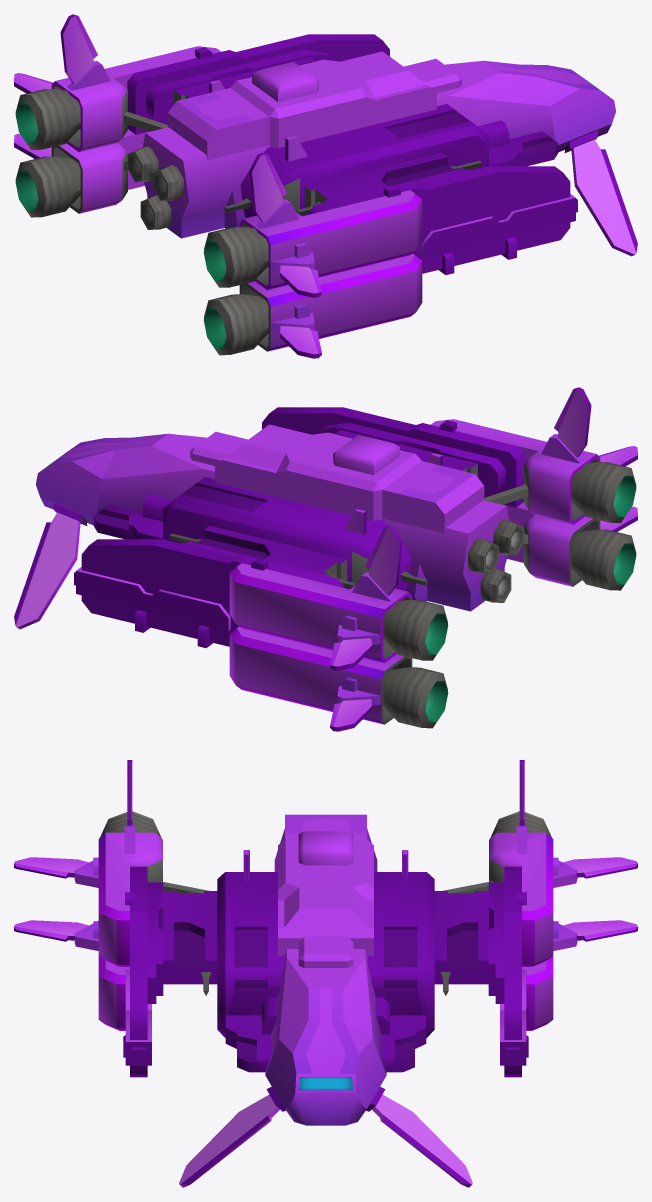
File: EnemyShip7.fbx
3 renders of one model, top to bottom at view 1: azimuth 30°, elevation 25°; view 2: azimuth 150°, elevation 25°; view 3: azimuth 270°, elevation 25°, orthographic. The views are drawn at different scales.
Parts seen in each view (by area): view 1: Enemy5Parts.001, Enemy5Parts.005, Enemy5Parts.006, Enemy5Parts.004, Enemy5Parts.007, Enemy5Parts.003; view 2: Enemy5Parts.001, Enemy5Parts.006, Enemy5Parts.005, Enemy5Parts.007, Enemy5Parts.004, Enemy5Parts.003; view 3: Enemy5Parts.001, Enemy5Parts.004, Enemy5Parts.007.
Boxes of the visible parts, x1,y1,x2,y2 form: Enemy5Parts.001: [14, 14, 637, 358]; Enemy5Parts.005: [15, 156, 80, 217]; Enemy5Parts.006: [203, 294, 268, 355]; Enemy5Parts.004: [15, 89, 80, 149]; Enemy5Parts.007: [203, 226, 268, 287]; Enemy5Parts.003: [128, 146, 183, 229]; Enemy5Parts.001: [14, 387, 637, 731]; Enemy5Parts.006: [571, 529, 636, 590]; Enemy5Parts.005: [383, 667, 448, 728]; Enemy5Parts.007: [571, 462, 636, 522]; Enemy5Parts.004: [383, 599, 448, 660]; Enemy5Parts.003: [468, 519, 523, 602]; Enemy5Parts.001: [14, 760, 637, 1187]; Enemy5Parts.004: [490, 811, 551, 838]; Enemy5Parts.007: [100, 811, 161, 838].
Bounding box in the file's own units: 6.51 × 7.09 × 2.83.
